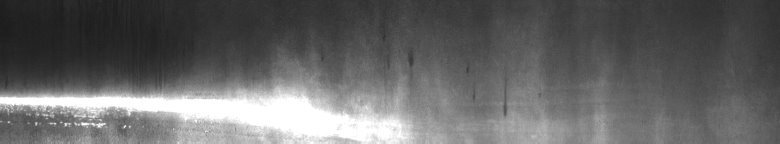ke: (4, 33, 515, 136)
